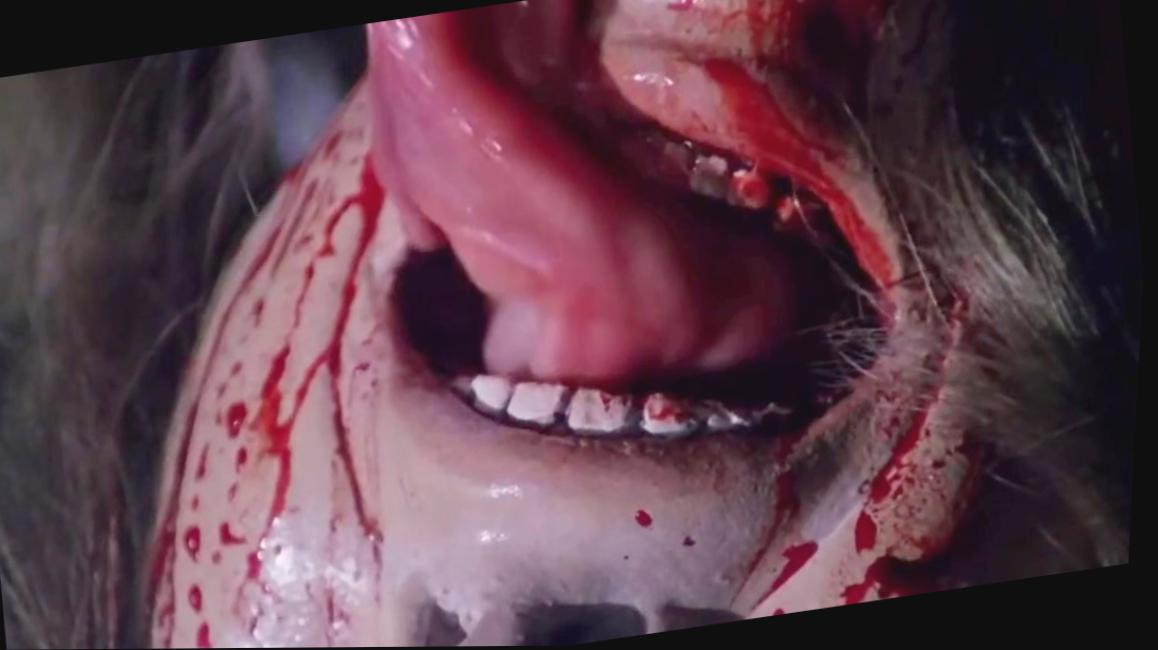Fire: (703, 0, 992, 621), (157, 93, 409, 649)
